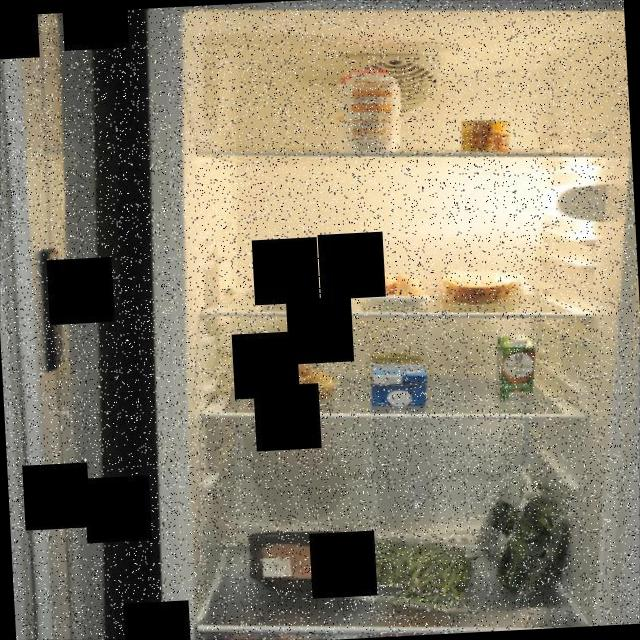Carne pollo: (254, 527, 355, 585)
Huevos: (360, 266, 432, 304)
Leche: (361, 346, 436, 416)
Patata: (240, 353, 338, 405)
